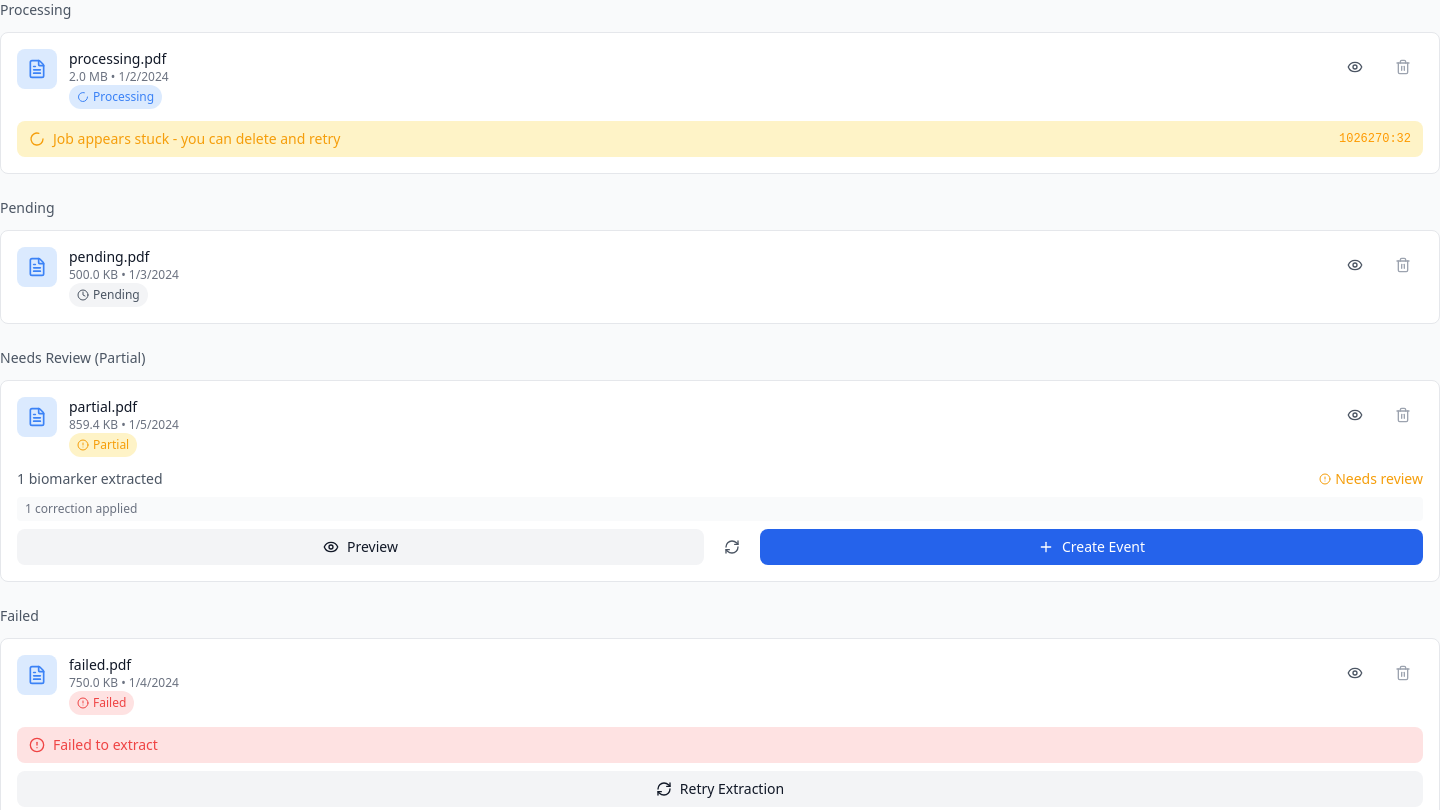
Test: LabUploadList › opens preview modal when Preview is clicked on complete upload
# Multiple Preview buttons exist (complete and partial), get the first one
What coordinates should you click on to do the following:
click the button "Preview"
I would click on:
 (360, 547)
Its box is [17,529,704,565].
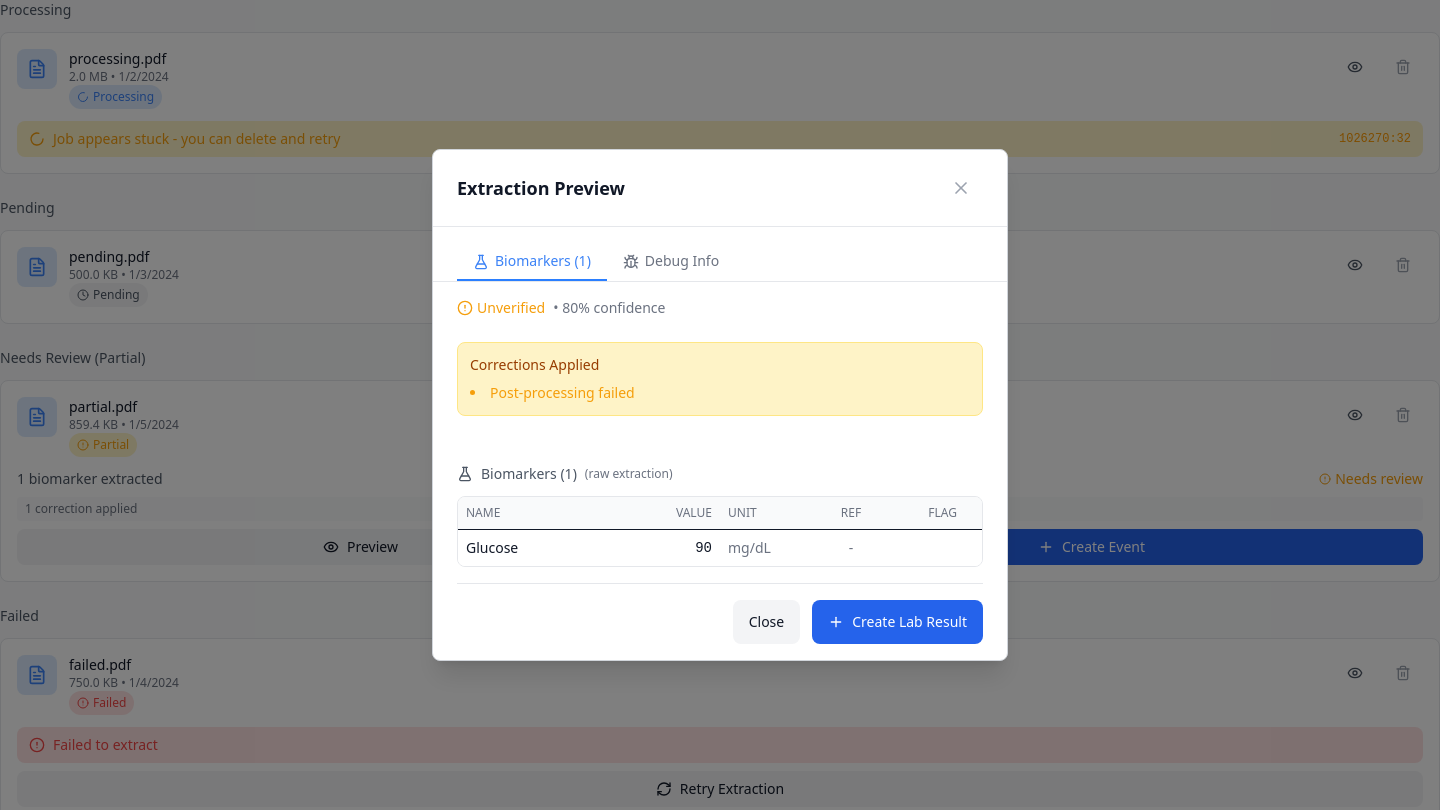
Now the heading "Extraction Preview" is shown, box [457,174,625,202]
